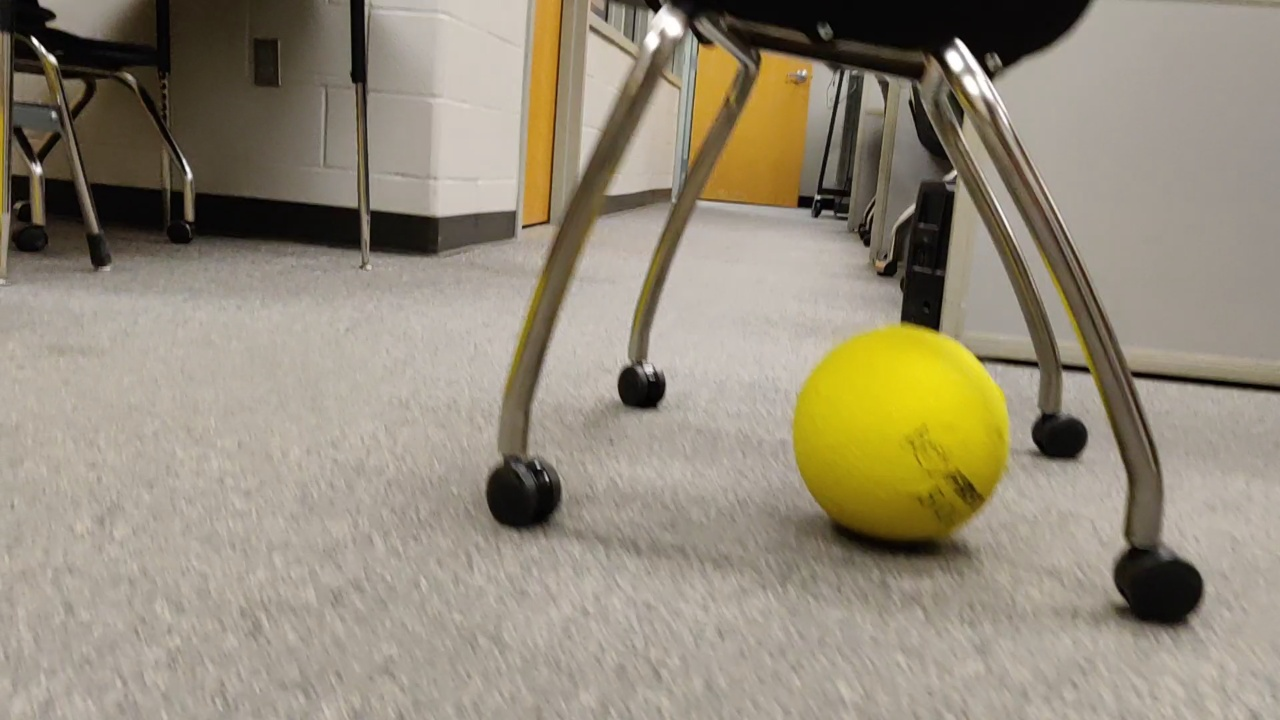Ball: (793, 321, 1011, 566)
